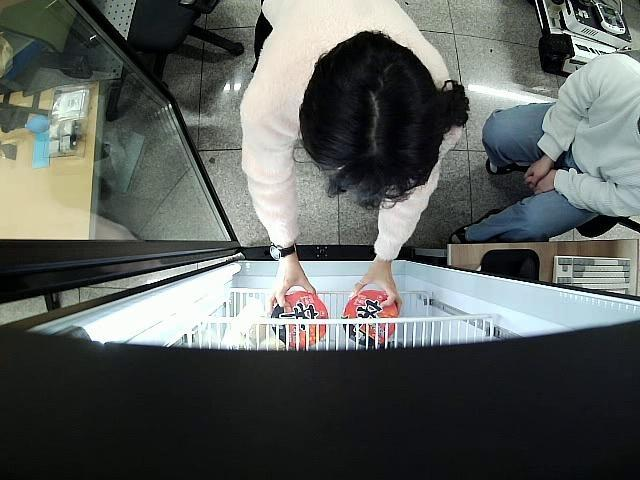01_ShinRamen_L: (268, 292, 329, 348), (343, 290, 398, 344)
